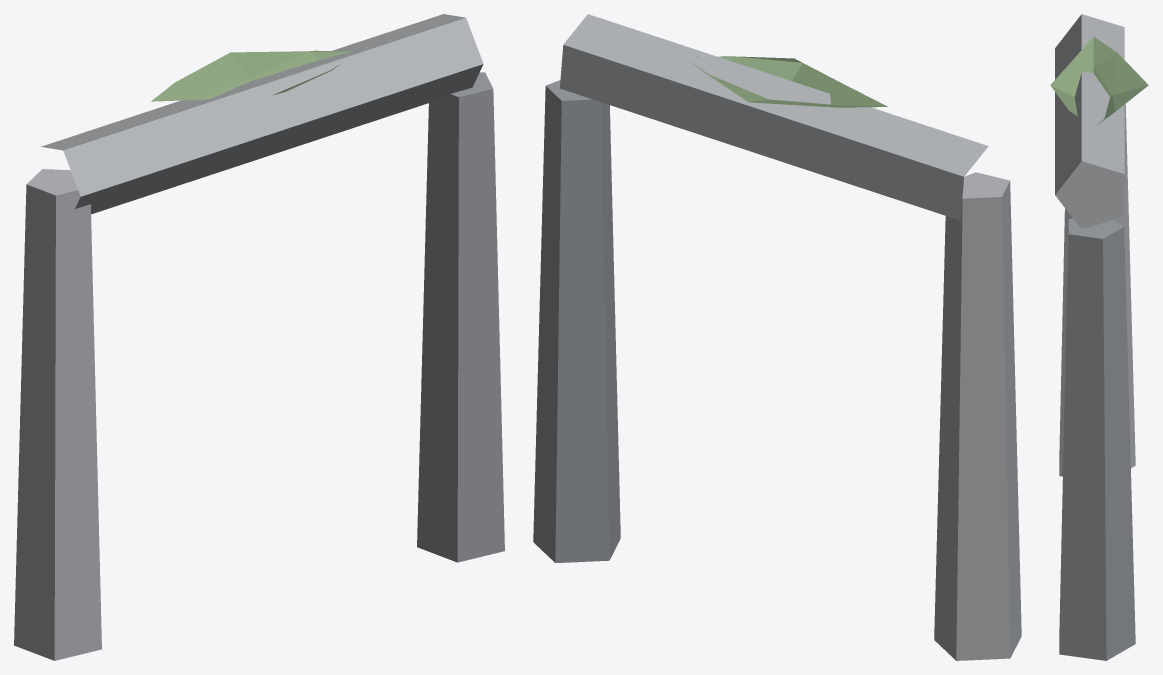
Rendered from arch_rock_v02.glb.
The picture shows the model from 3 angles, left to right: view 1: azimuth 30°, elevation 25°; view 2: azimuth 150°, elevation 25°; view 3: azimuth 270°, elevation 25°; orthographic projection. The views are drawn at different scales.
Parts seen in each view (by area): view 1: lod0; view 2: lod0; view 3: lod0.
Boxes of the visible parts, box(x1,y1,x2,y2) form: lod0: box(14, 14, 504, 660); lod0: box(533, 14, 1021, 660); lod0: box(1050, 14, 1148, 660).
Size of what is drawn, in the model's own units: 2.62 by 2.8 by 0.5142.
